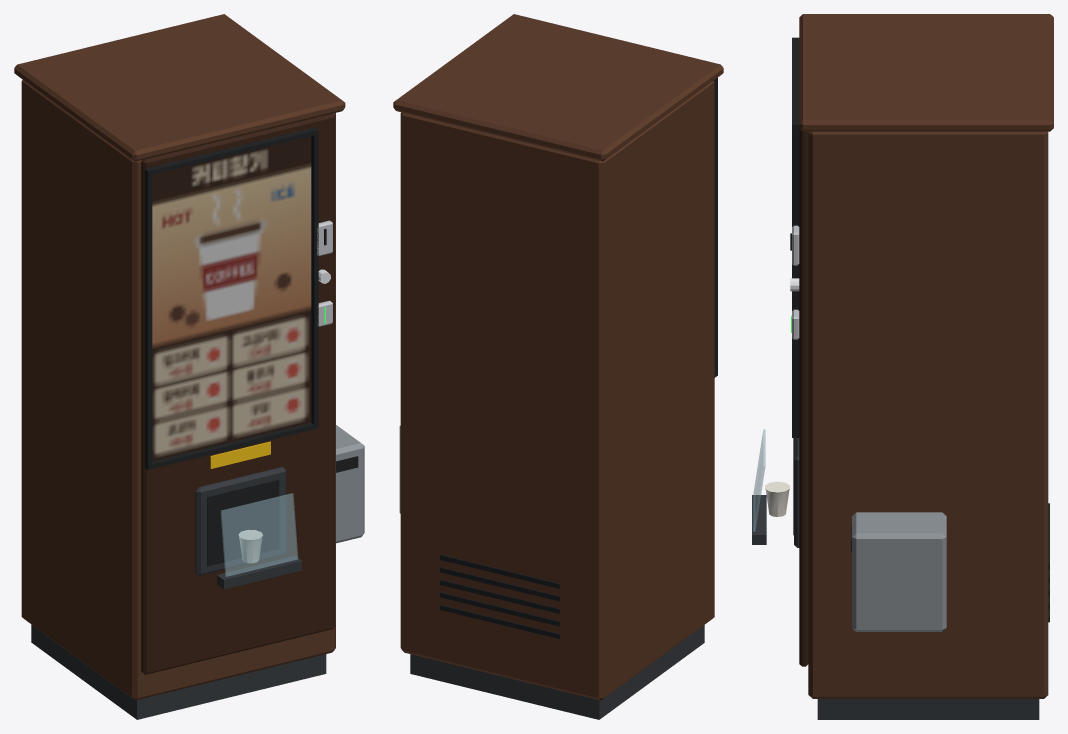
Rendered from SC_Str_Vending_Machine_Coffee.gltf.
3 views of the same model, side by side, from view 1: azimuth 30°, elevation 25°; view 2: azimuth 150°, elevation 25°; view 3: azimuth 270°, elevation 25° (orthographic). The views are drawn at different scales.
Parts seen in each view (by area): view 1: SC_Str_Vending_Machine_Coffee; view 2: SC_Str_Vending_Machine_Coffee; view 3: SC_Str_Vending_Machine_Coffee.
Boxes of the visible parts, left/top/right/bottom form: SC_Str_Vending_Machine_Coffee: left=14, top=14, right=364, bottom=719; SC_Str_Vending_Machine_Coffee: left=393, top=14, right=723, bottom=719; SC_Str_Vending_Machine_Coffee: left=752, top=14, right=1053, bottom=719.
Size of the model in its own units: 0.86 by 1.84 by 0.83.
Materials: 4 (4 with a texture image).
